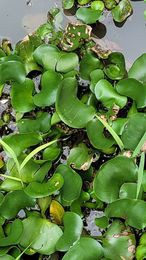water_hyacinth: (1, 25, 146, 260)
